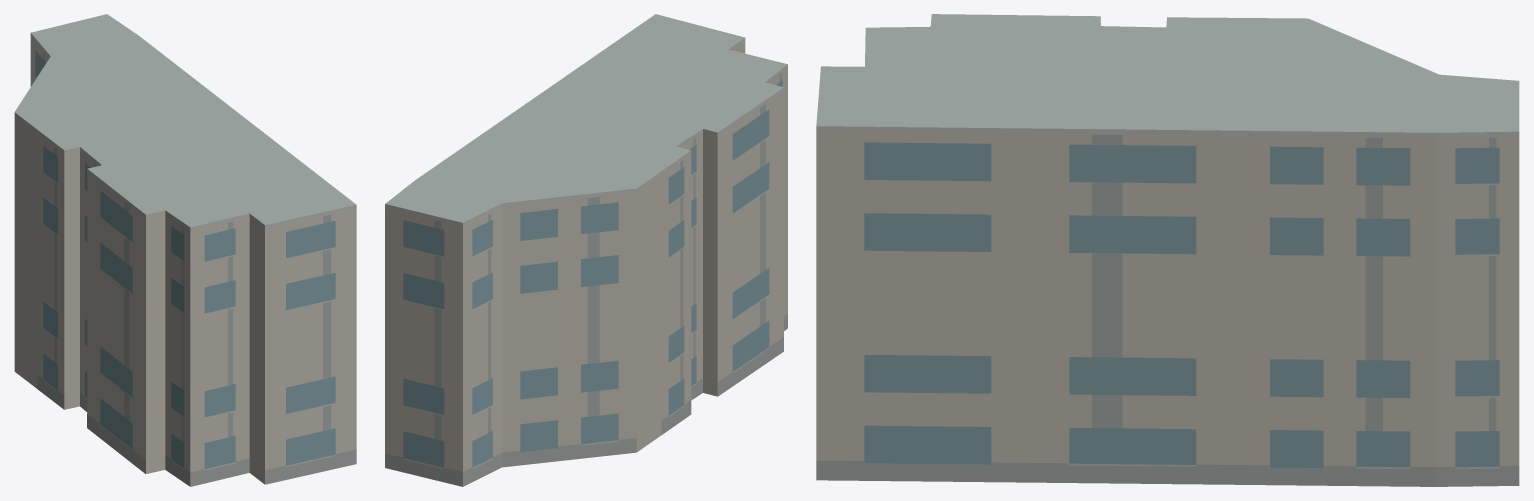
Rendered from survey-upis-32937961.glb.
3 renders of one model, left to right at view 1: azimuth 30°, elevation 25°; view 2: azimuth 150°, elevation 25°; view 3: azimuth 270°, elevation 25°, orthographic. The views are drawn at different scales.
Parts seen in each view (by area): view 1: survey-upis-32937961.tmp; view 2: survey-upis-32937961.tmp; view 3: survey-upis-32937961.tmp.
Boxes of the visible parts, x1,y1,x2,y2 form: survey-upis-32937961.tmp: [14, 14, 356, 486]; survey-upis-32937961.tmp: [385, 14, 787, 486]; survey-upis-32937961.tmp: [816, 14, 1519, 486].
Size of the model in its own units: 10.98 by 15.25 by 27.47.
